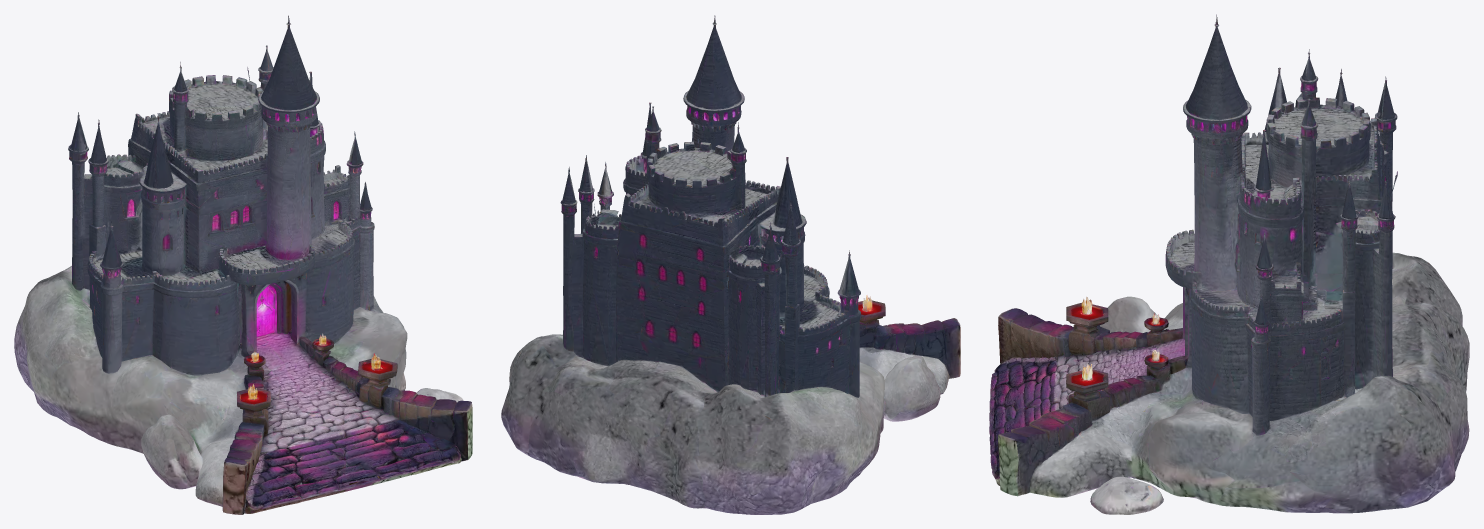
The model's file is castle-siege.glb.
3 renders of one model, left to right at view 1: azimuth 30°, elevation 25°; view 2: azimuth 150°, elevation 25°; view 3: azimuth 270°, elevation 25°, orthographic. The views are drawn at different scales.
Parts seen in each view (by area): view 1: Mesh_0; view 2: Mesh_0; view 3: Mesh_0.
Part boxes in pixels (left/top/right/bottom): Mesh_0: left=14, top=15, right=472, bottom=514; Mesh_0: left=501, top=15, right=960, bottom=514; Mesh_0: left=989, top=14, right=1469, bottom=514.
Size of the model in its own units: 1.66 by 1.89 by 1.9.
1 material, 1 textured.
